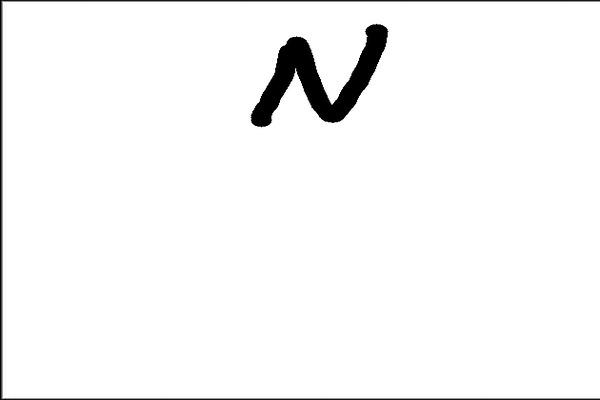N: (246, 18, 393, 131)
